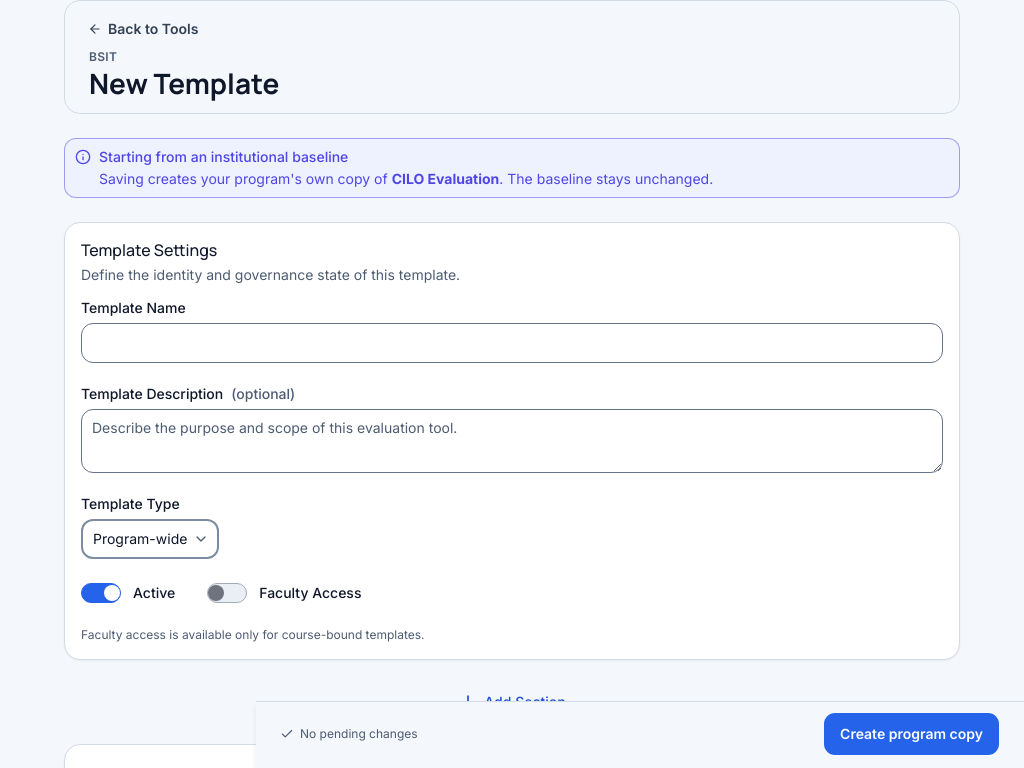
Scenario: TemplateBuilder › refuses to create a baseline copy without a usable name
Step 1. Click the button "Create program copy" → (912, 734), box [823,712,1000,756]
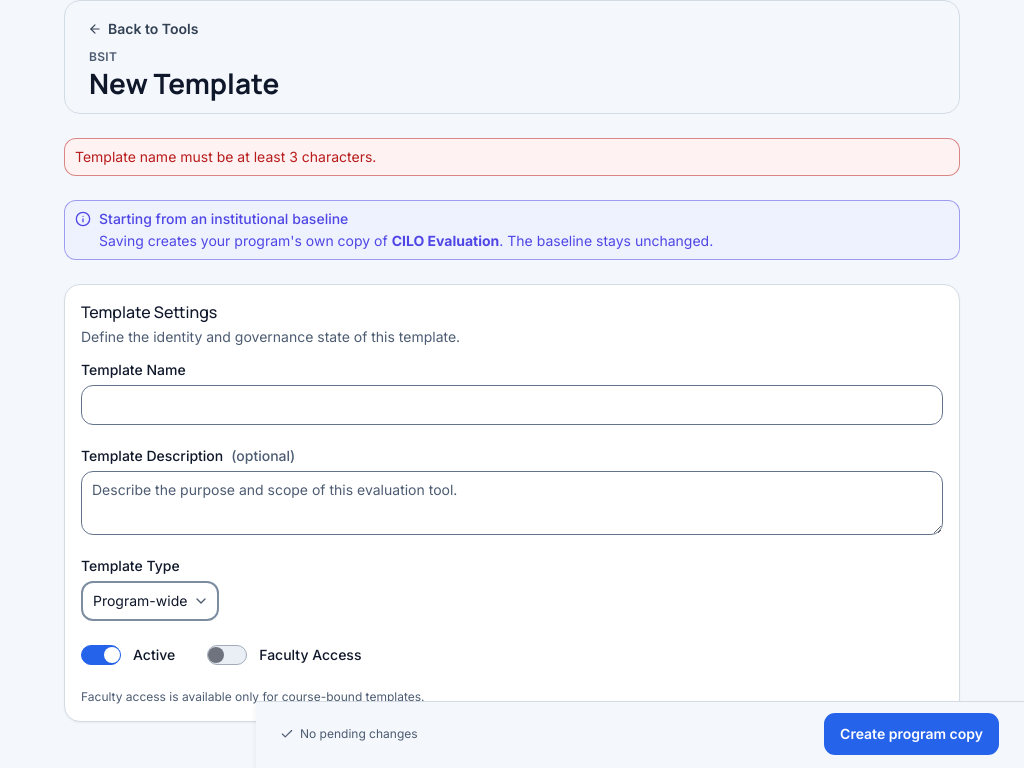
Check: the text "Template name must be at least 3 characters." is shown, box [75,148,376,165]
